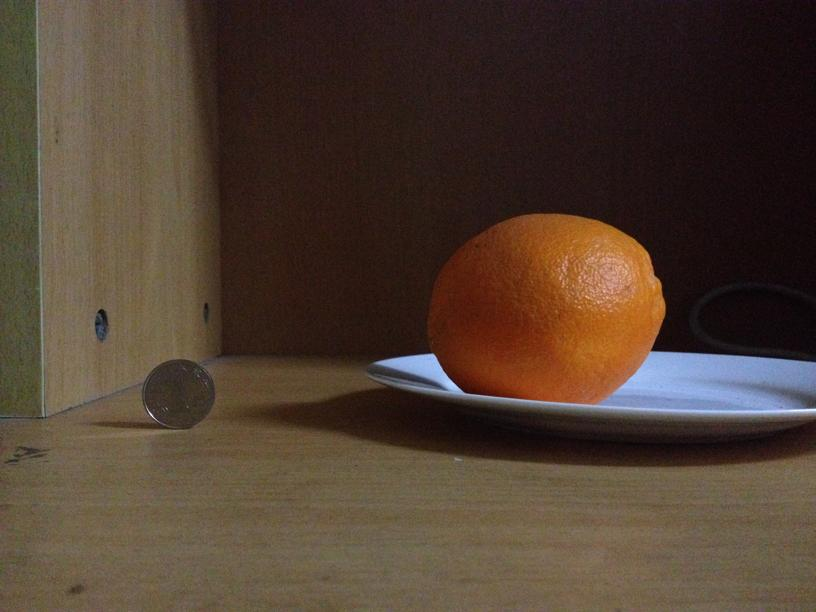coin: (142, 356, 214, 433)
orange: (425, 206, 664, 401)
